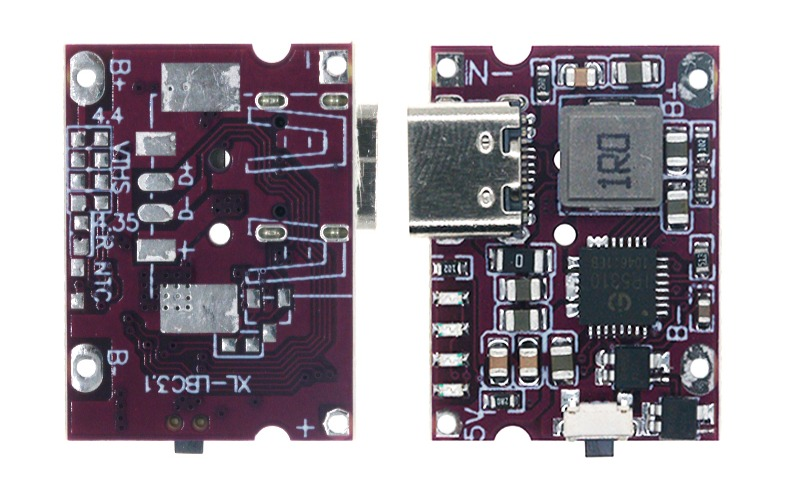Induktor: (558, 103, 664, 208)
